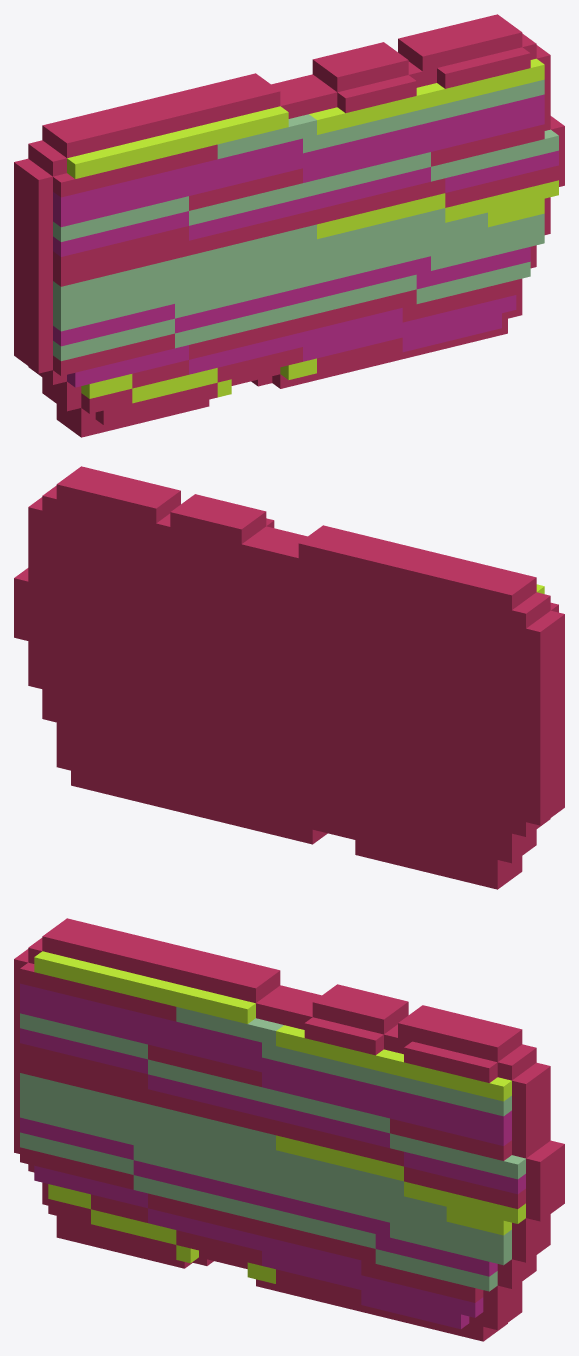
File: board.obj
The picture shows the model from 3 angles, top to bottom: view 1: azimuth 30°, elevation 25°; view 2: azimuth 150°, elevation 25°; view 3: azimuth 330°, elevation 25°; orthographic projection.
Bounding box in the file's own units: 37 × 20 × 4.
